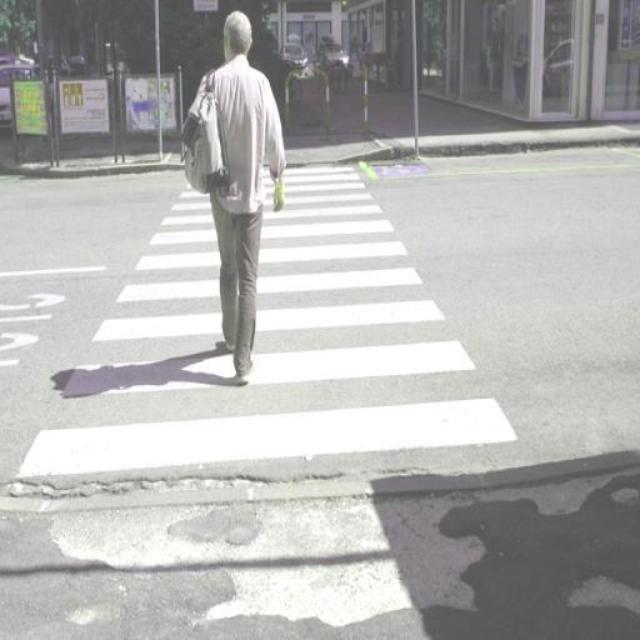sidewalk: (20, 165, 524, 479)
